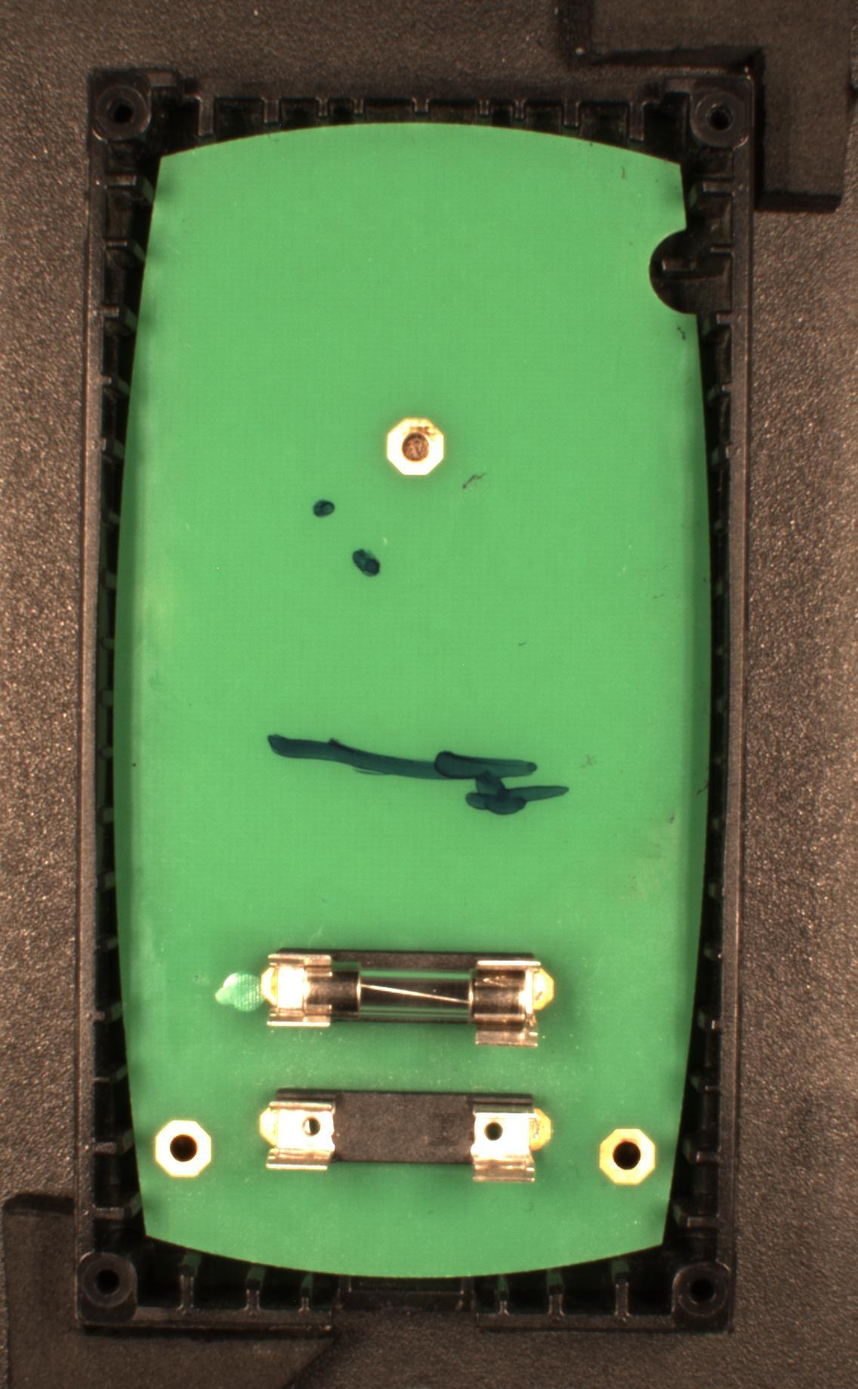Linijsko Ostecene: (266, 731, 570, 817)
Nepostojanje osiguraca: (257, 1086, 552, 1186)
Tockasto Ostecenje: (350, 547, 384, 579), (311, 496, 339, 520)
